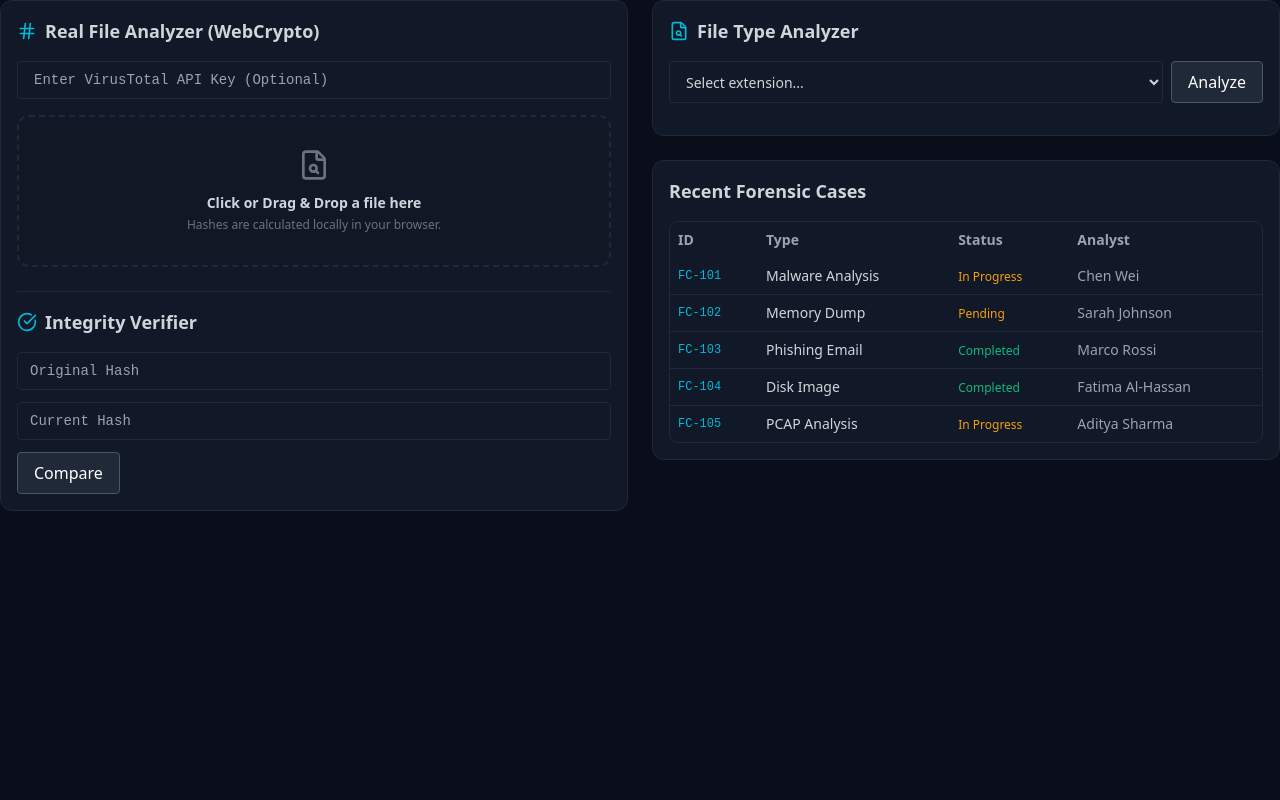
Test: ForensicsWorkbench Component › should analyze extensions in file type checker dropdown
Select ".exe" in the dropdown at (916, 82), box [669,61,1163,103]
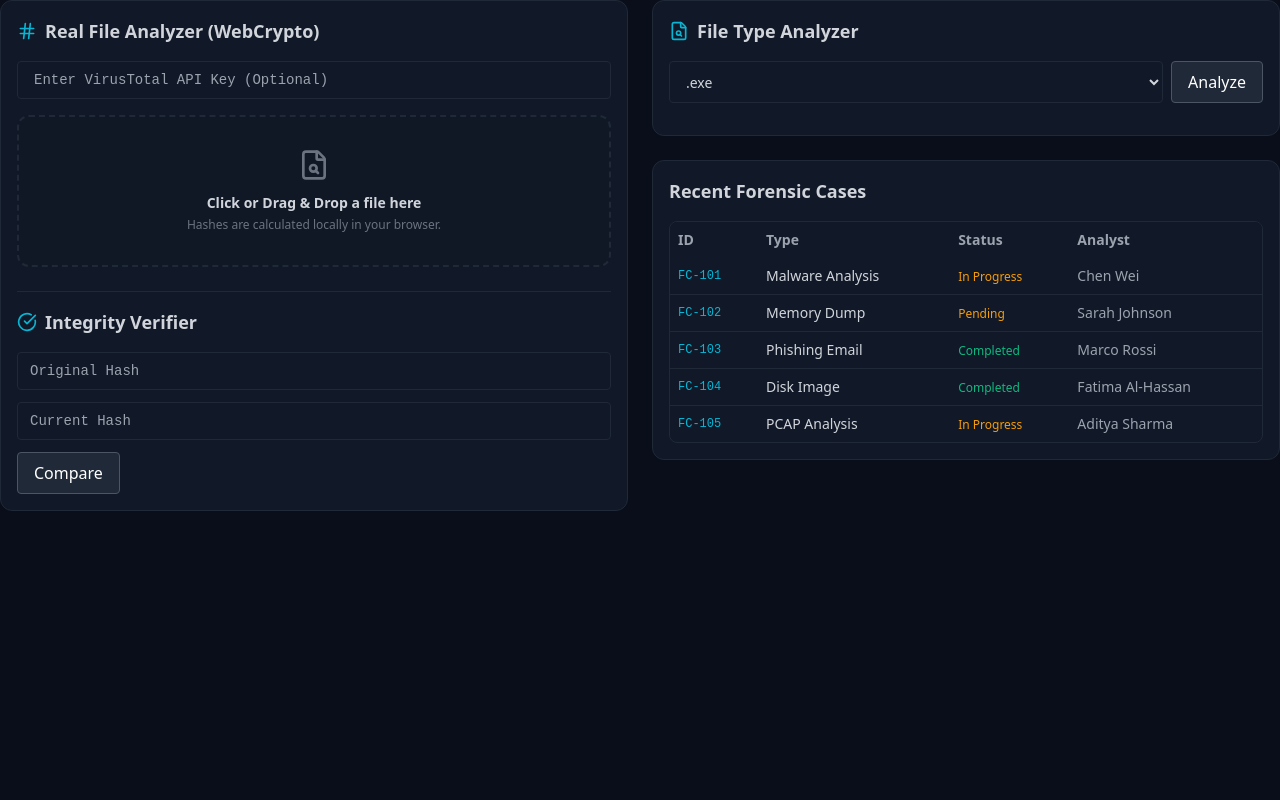
Click the button "Analyze" at (1217, 82), box [1171,61,1263,103]
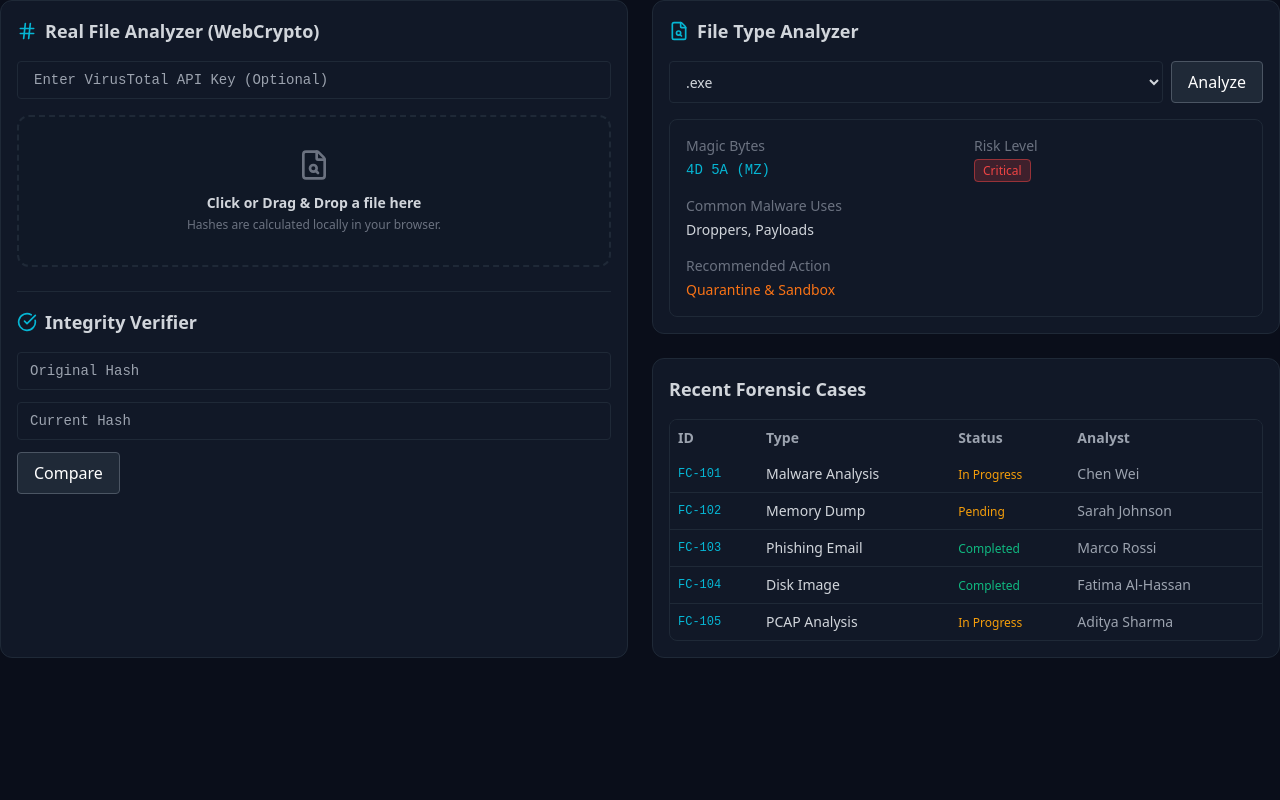
Now the text "4D 5A (MZ)" is shown, box [686,162,770,178]
Now the text "Droppers, Payloads" is shown, box [686,220,814,239]
